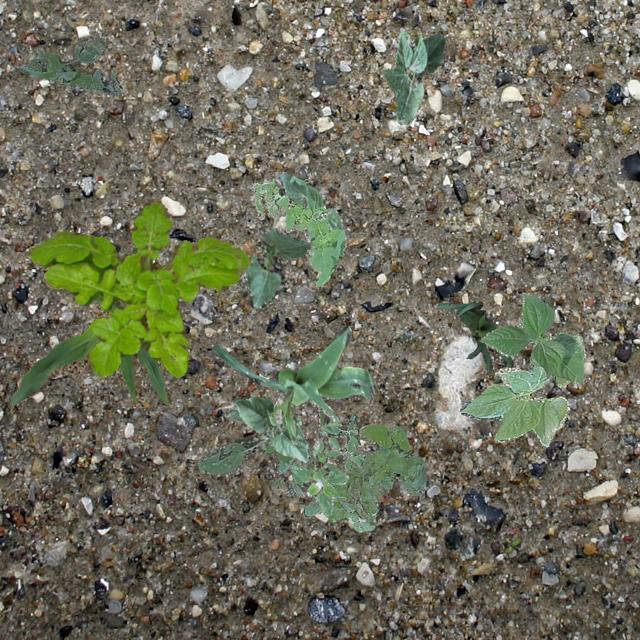crop: (210, 324, 374, 444), (7, 294, 170, 412), (458, 334, 584, 446), (478, 292, 584, 382), (436, 300, 512, 382), (382, 30, 446, 124), (242, 226, 312, 308), (276, 170, 344, 254), (232, 394, 308, 462)
weed: (28, 198, 252, 376), (322, 422, 426, 530), (250, 180, 344, 286), (270, 450, 370, 520), (196, 408, 296, 474), (18, 36, 122, 96), (288, 452, 348, 514), (321, 412, 364, 468), (310, 409, 342, 456)
